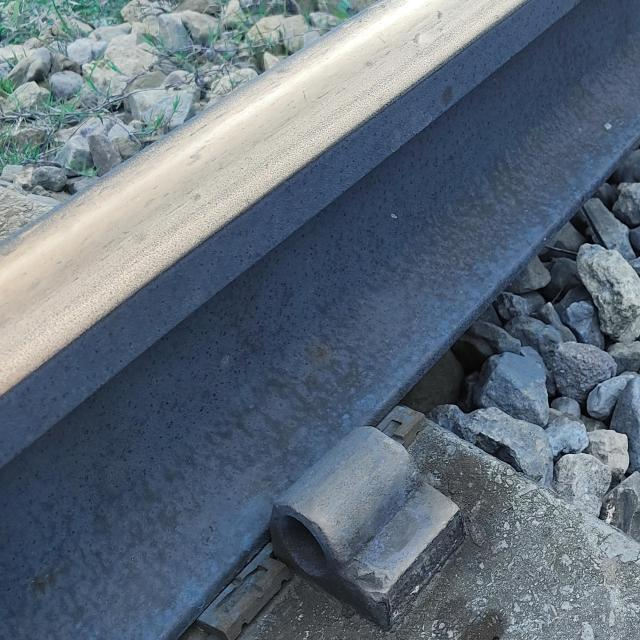Missing Fastener: (205, 374, 531, 634)
